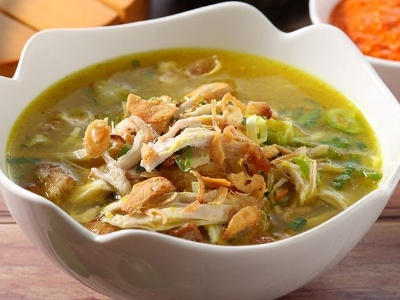soto: (50, 66, 345, 229)
